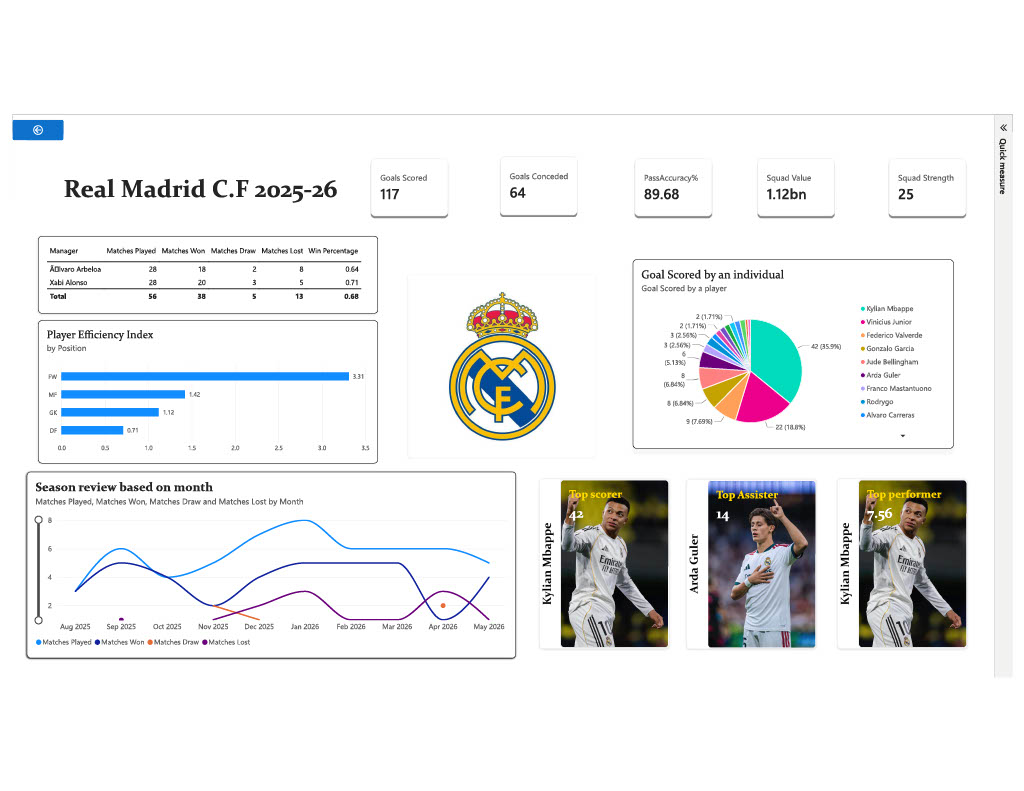

This screenshot's page, from the dashboard's own definition file:
{"tool":"powerbi","page":{"name":"Page 1","canvas":[1920,1080],"ordinal":0},"visuals":[{"type":"image","box":[776,304,362.8,355.8],"z":0},{"type":"textbox","title":"Real Madrid","box":[100,66.7,553.3,160],"z":1000},{"type":"cardVisual","fields":{"Data":["Sum(Player_Stats (2).Goals)"]},"box":[696.7,70,160.5,123.3],"z":2000},{"type":"cardVisual","fields":{"Data":["Sum(Player_Stats (2).GoalsConceded)"]},"box":[950,66.7,160.5,123.3],"z":3000},{"type":"cardVisual","fields":{"Data":["Avg(Player_Stats (2).PassAccuracy%)"]},"box":[1213.3,70,160.5,123.3],"z":4000},{"type":"cardVisual","fields":{"Data":["Sum(Player_Stats.MarketValueNumeric)"]},"box":[1453.3,70,160.5,123.3],"z":5000},{"type":"pieChart","title":"Goal Scored by an individual","fields":{"Category":["Player_Stats.Name"],"Y":["Sum(Player_Stats.Goals)"]},"box":[1212.5,272.5,628,370],"z":6000},{"type":"cardVisual","fields":{"Data":["CountNonNull(Player_Stats.JerseyNo)"]},"box":[1710,70,160.5,123.3],"z":7000},{"type":"lineChart","title":"Season review based on month","fields":{"Category":["Matches.Month"],"Y":["Matches.Matches Played","Matches.Matches Won","Matches.Matches Draw","Matches.Matches Lost"]},"box":[27.5,687.5,957.5,365],"z":8000},{"type":"tableEx","fields":{"Values":["Matches.Manager","Matches.Matches Played","Matches.Matches Won","Matches.Matches Draw","Matches.Matches Lost","Matches.Win Percentage"]},"box":[50,226.7,665,152.5],"z":9000},{"type":"actionButton","box":[0,0,100,40],"z":11000},{"type":"cardVisual","fields":{"Data":["Sum(Top Assister Table.Assists)"],"Rows":["Top Assister Table.Name"]},"box":[1317.5,702.5,255,332.5],"z":11002},{"type":"cardVisual","fields":{"Data":["Sum(Top Performers.Rating)"],"Rows":["Top Performers.Name"]},"box":[1613.3,701.7,255,332.5],"z":11004},{"type":"cardVisual","fields":{"Data":["Sum(Top Scorer Table.Goals)"],"Rows":["Top Scorer Table.Name"]},"box":[1030,701.7,255,332.5],"z":11005},{"type":"barChart","fields":{"Category":["Player_Stats.Position"],"Y":["Player_Stats.Player Efficiency Index"]},"box":[50,392.2,665,280],"z":11006},{"type":"textbox","box":[100,100,300,300],"z":11007},{"type":"textbox","box":[100,100,552.5,92.5],"z":11008}]}

Visuals, with their boxes on the page's 1920x1080 design canvas (x1, y1, x2, y2). These are canvas units, not pixel positions in the 1024x791 screenshot, which may show the page scaled, cropped or inside an application window:
image: left=776, top=304, right=1139, bottom=660
"Real Madrid" textbox: left=100, top=67, right=653, bottom=227
cardVisual - Sum(Player_Stats (2).Goals): left=697, top=70, right=857, bottom=193
cardVisual - Sum(Player_Stats (2).GoalsConceded): left=950, top=67, right=1110, bottom=190
cardVisual - Avg(Player_Stats (2).PassAccuracy%): left=1213, top=70, right=1374, bottom=193
cardVisual - Sum(Player_Stats.MarketValueNumeric): left=1453, top=70, right=1614, bottom=193
"Goal Scored by an individual" pieChart: left=1212, top=272, right=1840, bottom=642
cardVisual - CountNonNull(Player_Stats.JerseyNo): left=1710, top=70, right=1870, bottom=193
"Season review based on month" lineChart: left=28, top=688, right=985, bottom=1052
tableEx - Matches.Manager x Matches.Matches Played: left=50, top=227, right=715, bottom=379
actionButton: left=0, top=0, right=100, bottom=40
cardVisual - Sum(Top Assister Table.Assists) x Top Assister Table.Name: left=1318, top=702, right=1572, bottom=1035
cardVisual - Sum(Top Performers.Rating) x Top Performers.Name: left=1613, top=702, right=1868, bottom=1034
cardVisual - Sum(Top Scorer Table.Goals) x Top Scorer Table.Name: left=1030, top=702, right=1285, bottom=1034
barChart - Player_Stats.Position x Player_Stats.Player Efficiency Index: left=50, top=392, right=715, bottom=672
textbox: left=100, top=100, right=400, bottom=400
textbox: left=100, top=100, right=652, bottom=192
